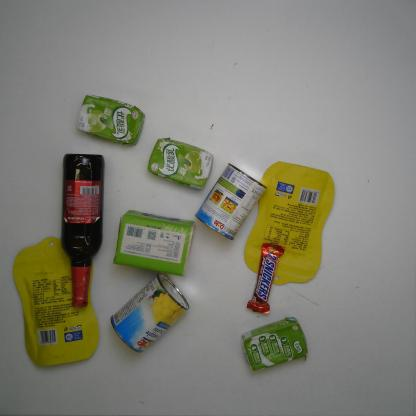Alcohol: (60, 152, 105, 310)
Canned Food: (107, 271, 193, 355), (192, 160, 268, 244)
Chocolate: (245, 241, 286, 316)
Dried Fruit: (12, 234, 102, 369), (242, 160, 336, 286)
Milk: (240, 314, 310, 372), (74, 92, 147, 147), (146, 136, 215, 190)
Tissue: (111, 208, 197, 278)
